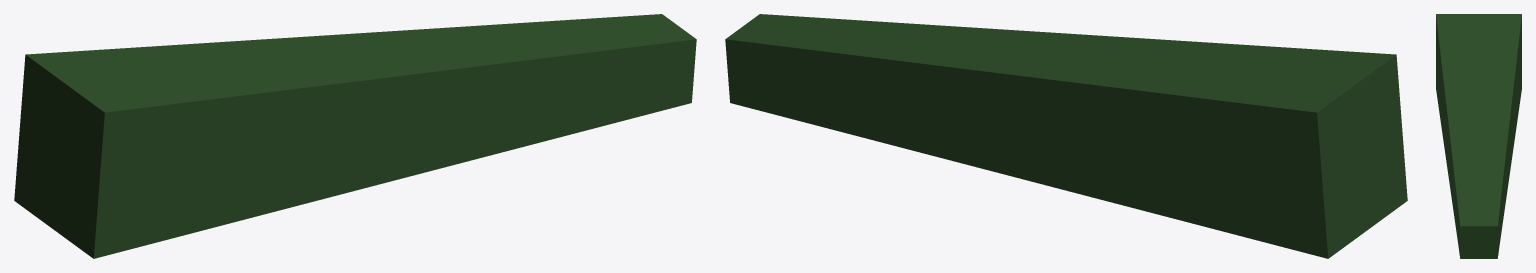
File: carrotStem.fbx
3 views of the same model, side by side, from view 1: azimuth 30°, elevation 25°; view 2: azimuth 150°, elevation 25°; view 3: azimuth 270°, elevation 25° (orthographic). The views are drawn at different scales.
Visible parts, largest first — view 1: carrotStem; view 2: carrotStem; view 3: carrotStem.
Boxes of the visible parts, x1,y1,x2,y2 form: carrotStem: [14, 14, 696, 258]; carrotStem: [725, 14, 1407, 258]; carrotStem: [1436, 14, 1521, 258].
Size of the model in its own units: 11.65 by 2.77 by 2.56.
Materials: 1 (1 with a texture image).
